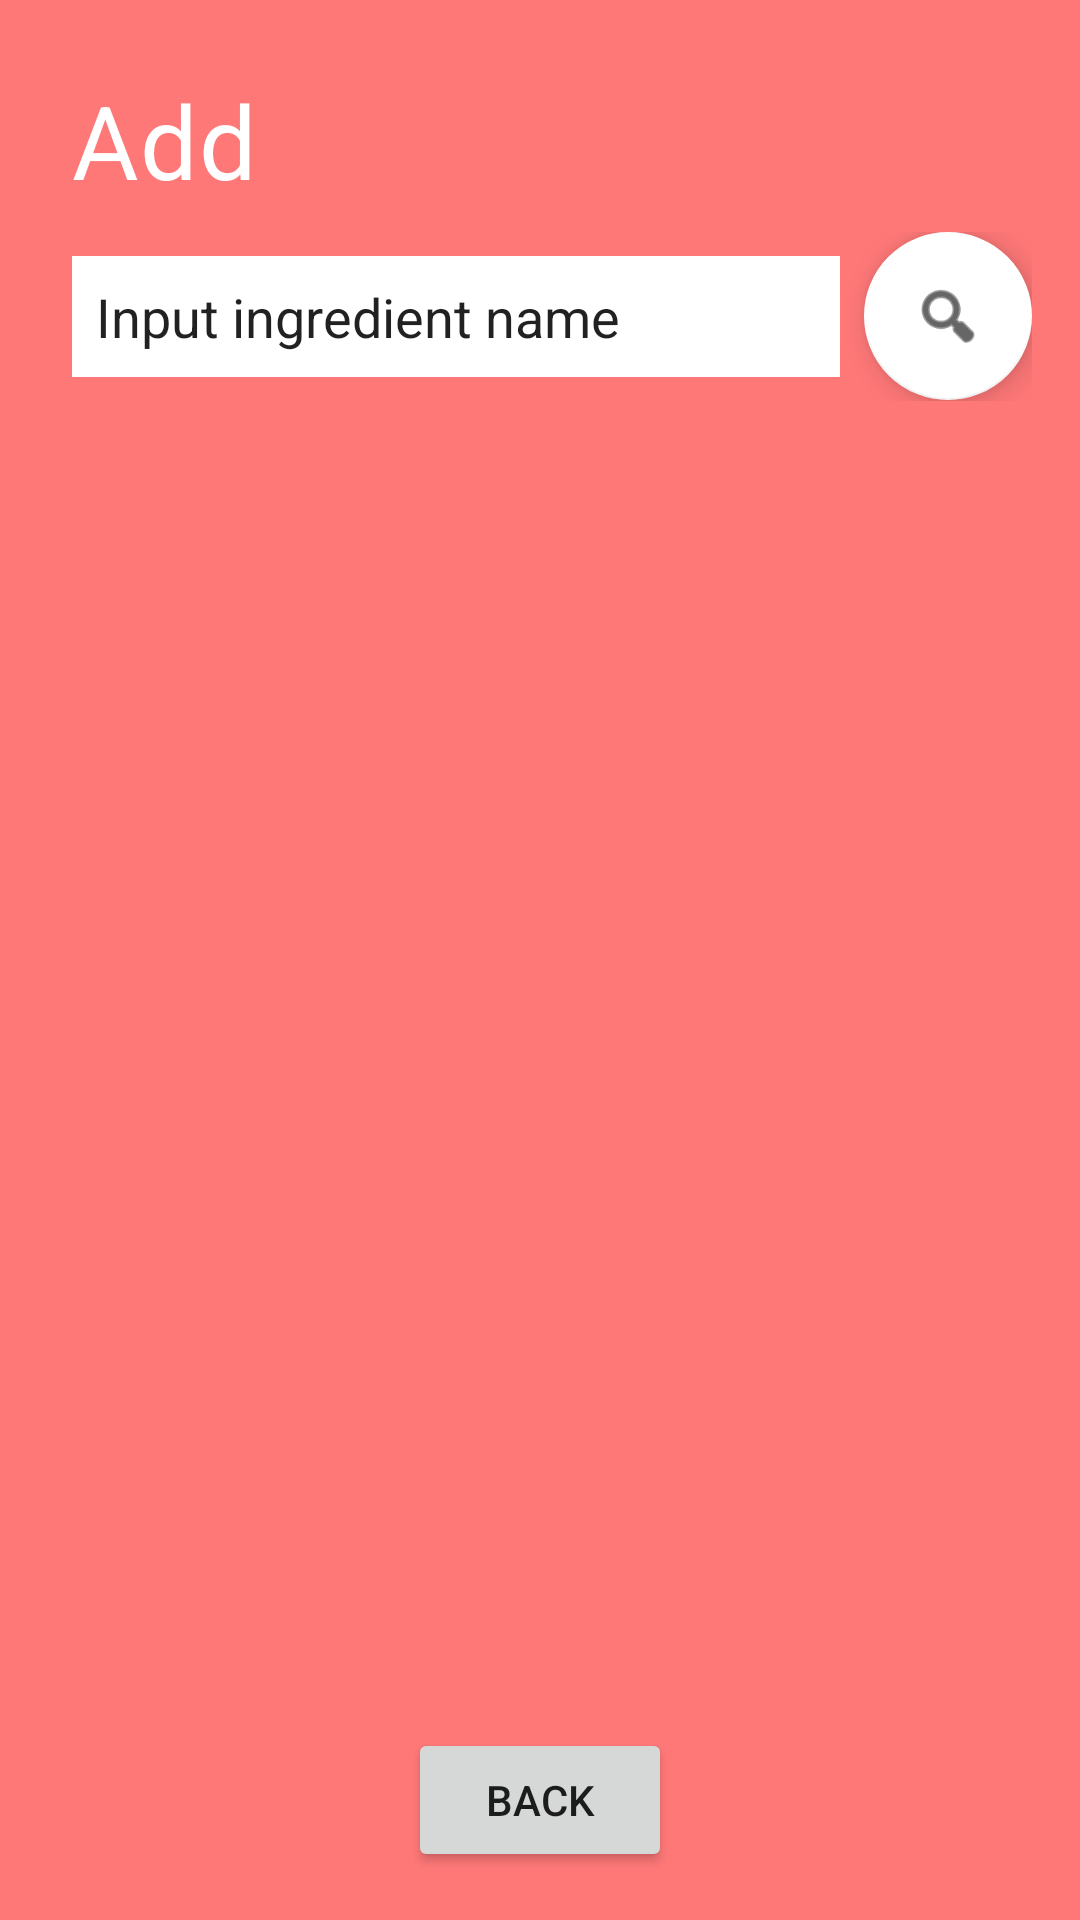

Named icons in this screenshot (1080px×1920px) and their bounding boxes, BBox(x1, y1, x2, y2):
search: BBox(864, 232, 1032, 400)
